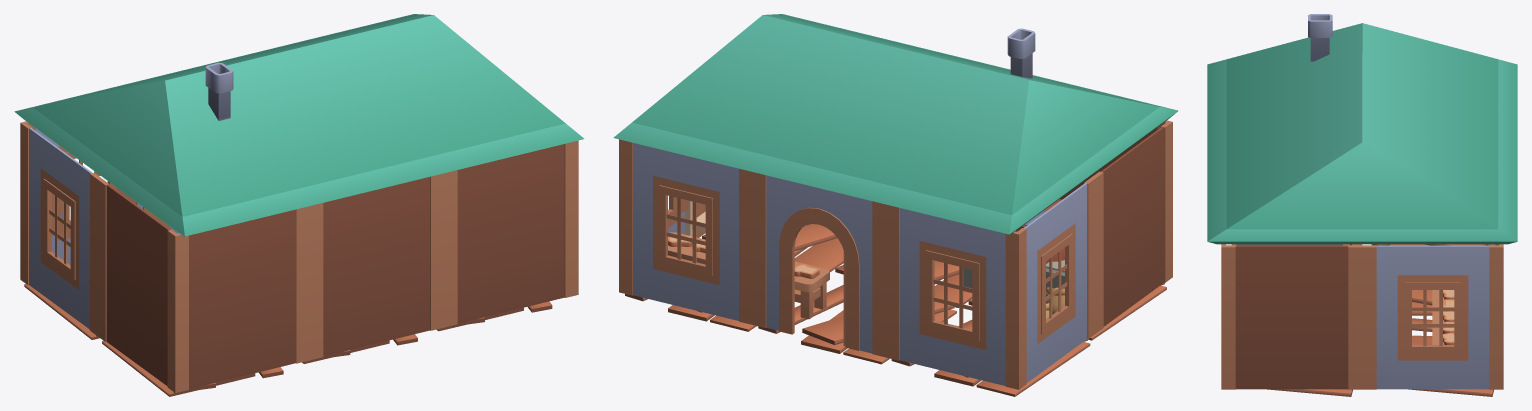
Rendered from london_bld_bakery.glb.
3 renders of one model, left to right at view 1: azimuth 30°, elevation 25°; view 2: azimuth 150°, elevation 25°; view 3: azimuth 270°, elevation 25°, orthographic. The views are drawn at different scales.
Visible parts, largest first — view 1: wall-wood (×4), roof-gable-end (×2), roof-gable, wall-window-shutters (×2), platform-planks (×4), chimney-top; view 2: wall-window-shutters (×4), roof-gable-end (×2), roof-gable, wall-door, wall-wood (×2), platform-planks (×6), stall-bench, chimney-top; view 3: roof-gable-end (×2), wall-wood (×2), wall-window-shutters (×2), roof-gable, platform-planks (×3), chimney-top, stall-bench.
Part boxes in pixels (x1=…): wall-wood (×4): x1=97, y1=140, x2=578, y2=392; roof-gable-end (×2): x1=14, y1=14, x2=584, y2=236; roof-gable: x1=148, y1=31, x2=451, y2=203; wall-window-shutters (×2): x1=20, y1=121, x2=156, y2=335; platform-planks (×4): x1=24, y1=284, x2=552, y2=396; chimney-top: x1=205, y1=62, x2=233, y2=119; wall-window-shutters (×4): x1=619, y1=139, x2=1095, y2=389; roof-gable-end (×2): x1=613, y1=14, x2=1178, y2=234; roof-gable: x1=745, y1=31, x2=1043, y2=202; wall-door: x1=752, y1=172, x2=885, y2=357; wall-wood (×2): x1=1060, y1=120, x2=1172, y2=333; platform-planks (×6): x1=625, y1=224, x2=1166, y2=396; stall-bench: x1=668, y1=232, x2=829, y2=319; chimney-top: x1=1007, y1=28, x2=1035, y2=78; roof-gable-end (×2): x1=1207, y1=23, x2=1517, y2=244; wall-wood (×2): x1=1221, y1=244, x2=1362, y2=389; wall-window-shutters (×2): x1=1362, y1=244, x2=1503, y2=389; roof-gable: x1=1207, y1=53, x2=1517, y2=182; platform-planks (×3): x1=1267, y1=290, x2=1493, y2=396; chimney-top: x1=1308, y1=14, x2=1332, y2=61; stall-bench: x1=1432, y1=290, x2=1444, y2=344.
Size of the model in its own units: 10.5 by 6.67 by 7.7.
Materials: 21 (11 with a texture image).
